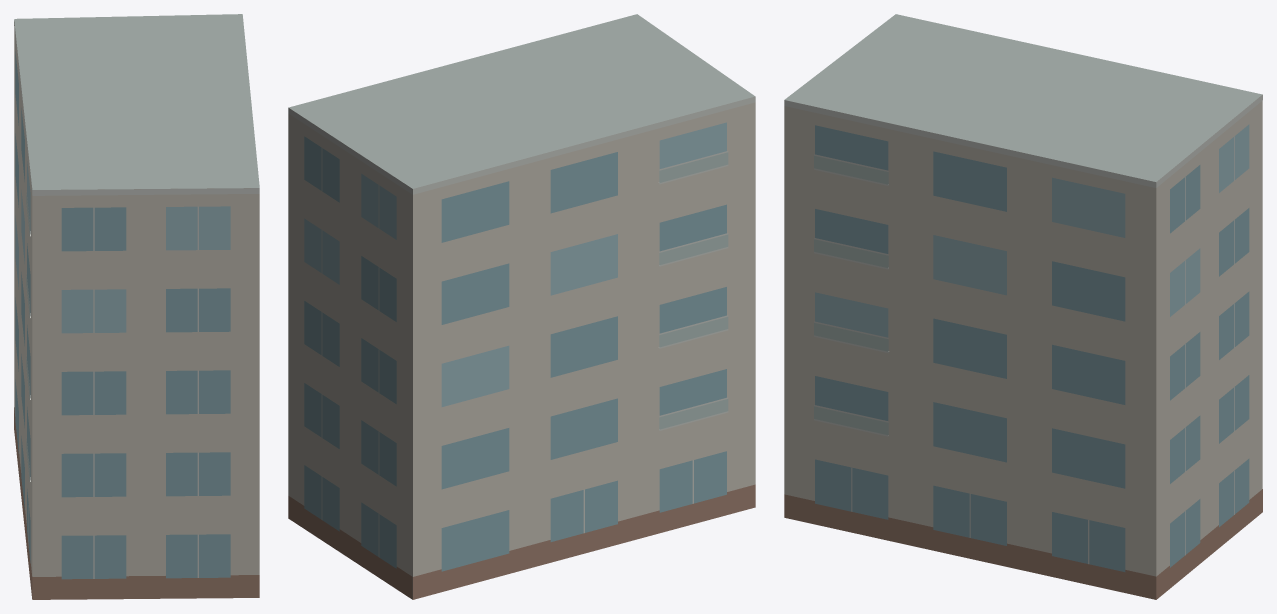
The model's file is survey-upis-32879138.glb.
3 views of the same model, side by side, from view 1: azimuth 30°, elevation 25°; view 2: azimuth 150°, elevation 25°; view 3: azimuth 270°, elevation 25° (orthographic).
Parts seen in each view (by area): view 1: survey-upis-32879138.tmp; view 2: survey-upis-32879138.tmp; view 3: survey-upis-32879138.tmp.
Part boxes in pixels (box(x1,y1,x2,y2)): survey-upis-32879138.tmp: box(14, 14, 259, 599); survey-upis-32879138.tmp: box(288, 14, 755, 599); survey-upis-32879138.tmp: box(784, 14, 1262, 599).
Bounding box in the file's own units: 14.69 × 17 × 17.66.
